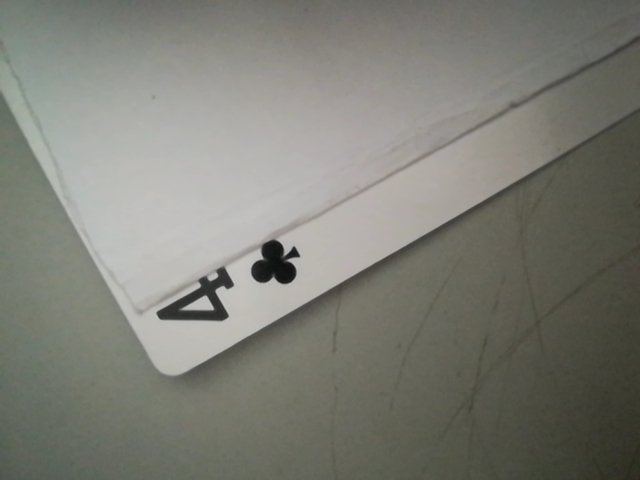mh 4: (141, 227, 315, 340)
